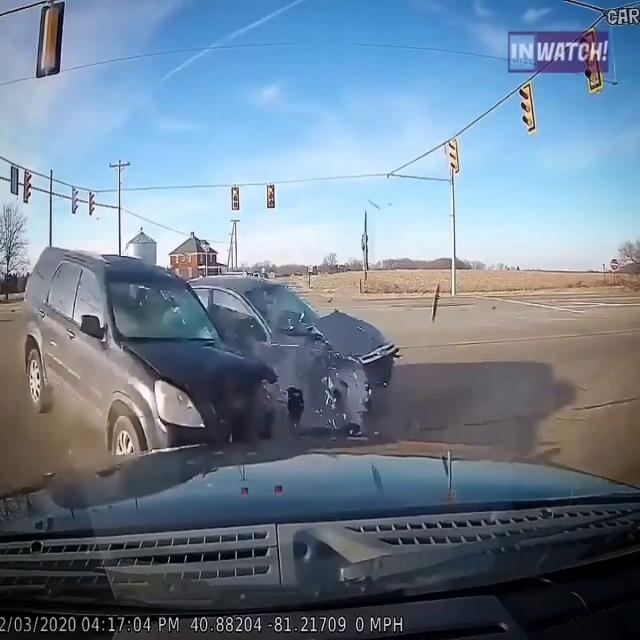accident: (19, 242, 406, 448)
